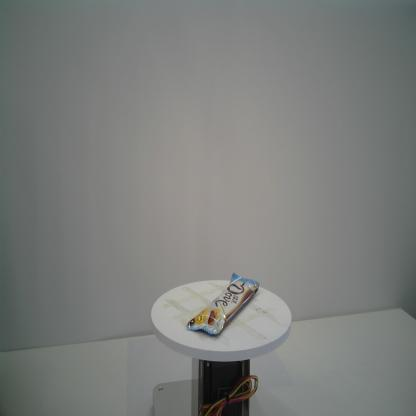Chocolate: (186, 273, 260, 335)
